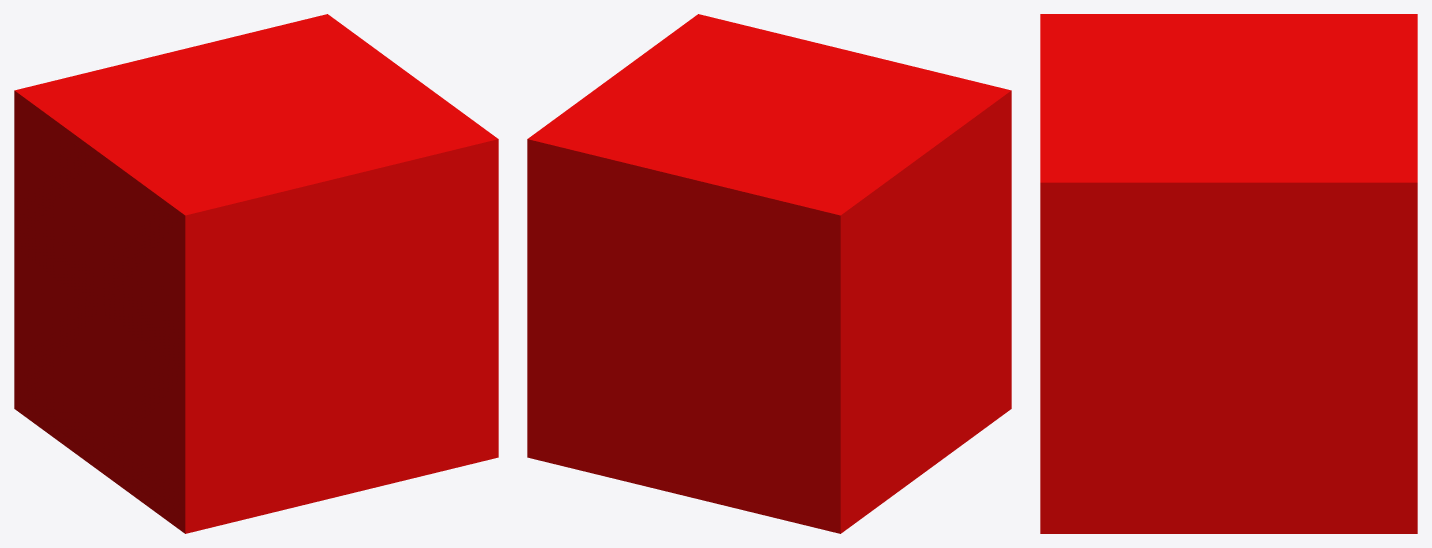
Rendered from second_cuneiform_rv_col.dae.
The picture shows the model from 3 angles, left to right: view 1: azimuth 30°, elevation 25°; view 2: azimuth 150°, elevation 25°; view 3: azimuth 270°, elevation 25°; orthographic projection. The views are drawn at different scales.
Parts seen in each view (by area): view 1: node0; view 2: node0; view 3: node0.
Part boxes in pixels (bbox=[...]): node0: bbox=[14, 14, 498, 533]; node0: bbox=[527, 14, 1011, 533]; node0: bbox=[1040, 14, 1417, 533].
Size of the model in its own units: 0.0178 by 0.0173 by 0.0169.
